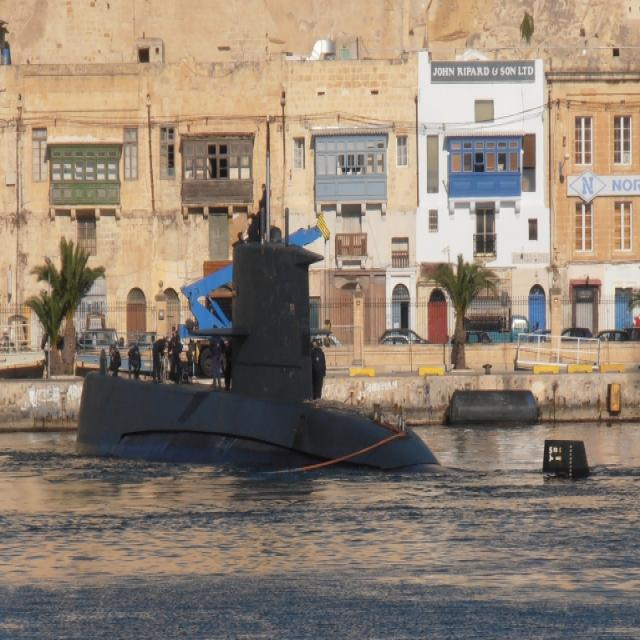submarine: (69, 206, 446, 473)
